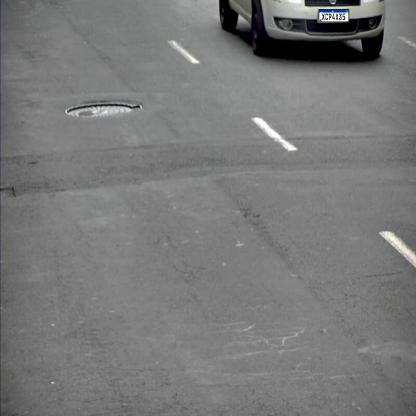PlacaM: (319, 9, 349, 22)
